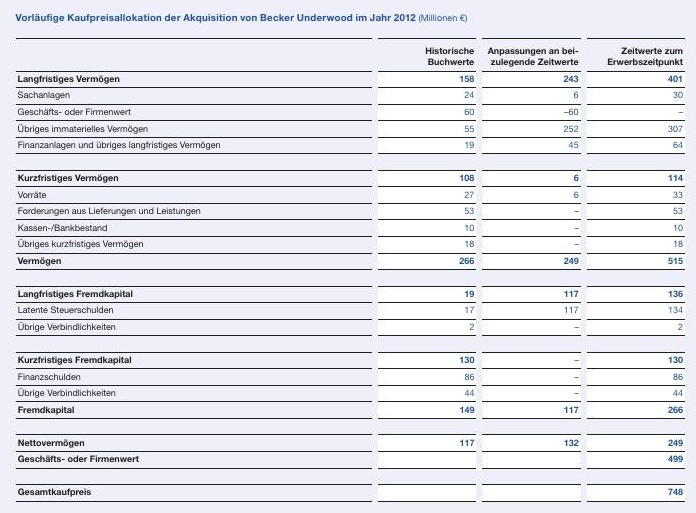table: (0, 0, 696, 513)
